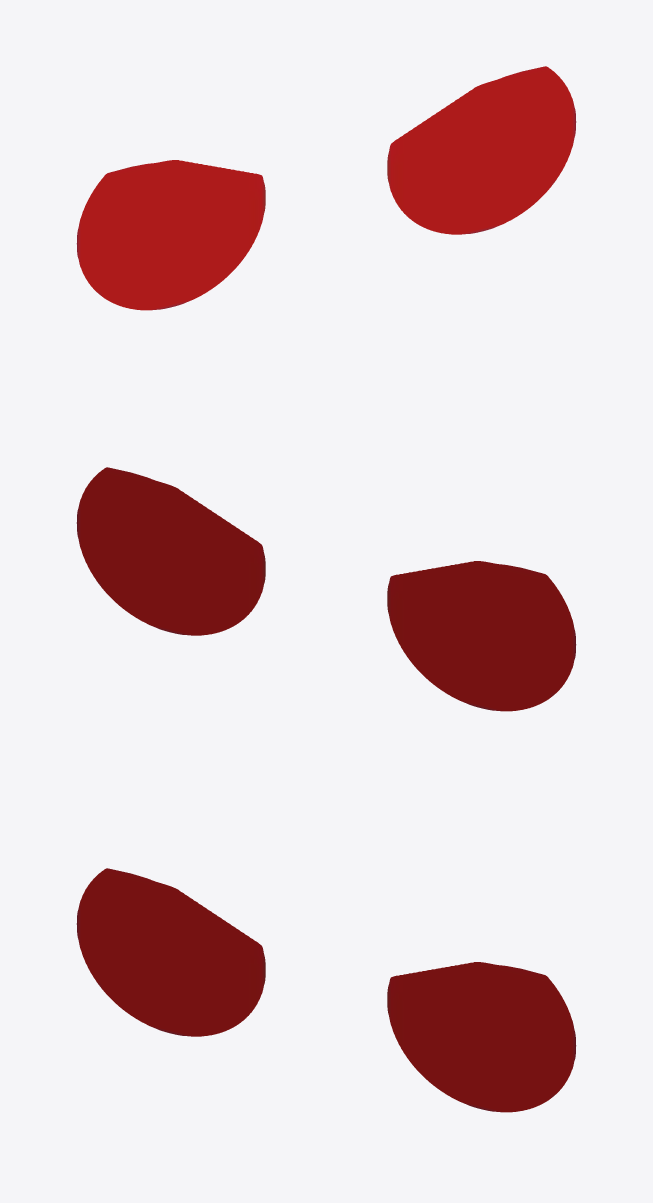
Rendered from pm-eyes-haunted-05.glb.
3 views of the same model, one above another, from view 1: azimuth 30°, elevation 25°; view 2: azimuth 150°, elevation 25°; view 3: azimuth 330°, elevation 25° (orthographic).
Parts seen in each view (by area): view 1: eyes_haunted_05_Art; view 2: eyes_haunted_05_Art; view 3: eyes_haunted_05_Art.
Boxes of the visible parts, bbox=[...] form: eyes_haunted_05_Art: bbox=[76, 66, 576, 310]; eyes_haunted_05_Art: bbox=[76, 467, 576, 711]; eyes_haunted_05_Art: bbox=[76, 868, 576, 1112].
Size of the model in its own units: 1.2 by 0.4023 by 9.03e-08.
1 material, 1 textured.
